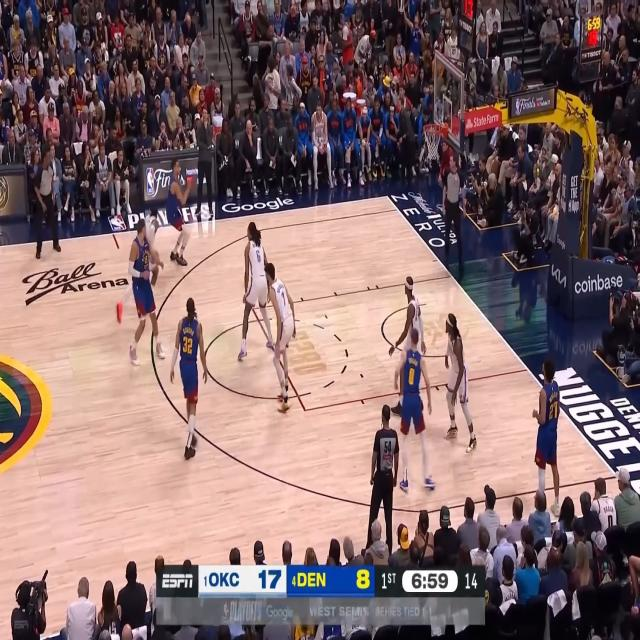ball: (188, 173, 198, 188)
number: (182, 333, 194, 356), (548, 402, 558, 422), (408, 365, 415, 387), (254, 248, 260, 264), (281, 288, 286, 306), (144, 254, 148, 265)
player: (393, 327, 437, 490), (169, 296, 208, 462), (115, 204, 163, 327), (386, 273, 426, 420), (128, 218, 167, 366), (263, 260, 297, 415), (237, 220, 274, 362), (532, 358, 563, 519), (444, 313, 478, 455)
player-jump-shot: (166, 155, 198, 266)
referee: (364, 403, 400, 556), (32, 146, 61, 260), (441, 151, 466, 279)
rim: (422, 120, 444, 136)
